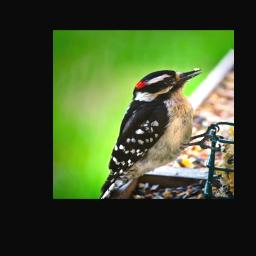Woodpecker: (99, 68, 223, 198)
